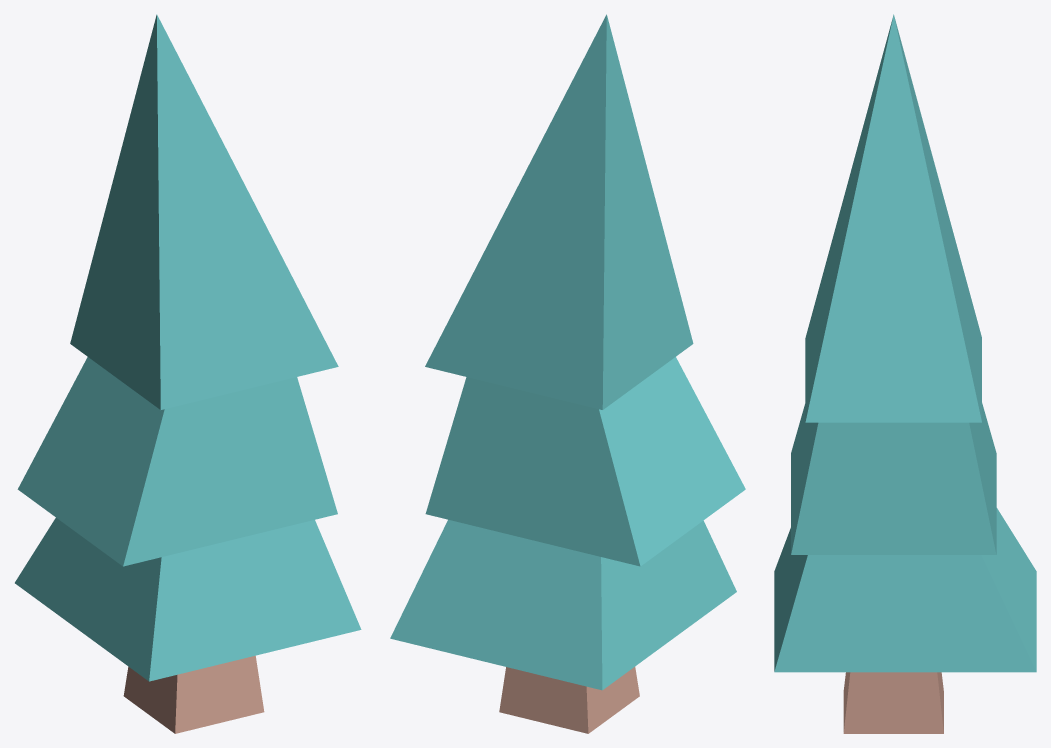
Rendered from tree-pine-small-c.glb.
3 renders of one model, left to right at view 1: azimuth 30°, elevation 25°; view 2: azimuth 150°, elevation 25°; view 3: azimuth 270°, elevation 25°, orthographic. The views are drawn at different scales.
Visible parts, largest first — view 1: tree_pineSmallC; view 2: tree_pineSmallC; view 3: tree_pineSmallC.
Boxes of the visible parts, x1,y1,x2,y2 form: tree_pineSmallC: [15, 14, 361, 733]; tree_pineSmallC: [390, 14, 745, 733]; tree_pineSmallC: [774, 14, 1036, 733].
Bounding box in the file's own units: 0.3863 × 1.12 × 0.392.
